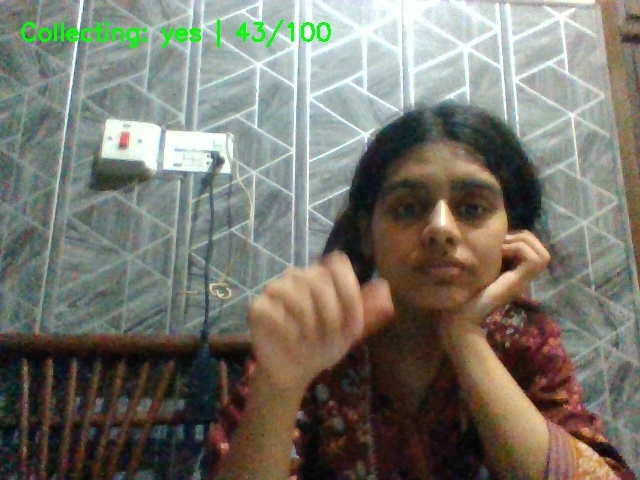yes: (231, 242, 398, 409)
